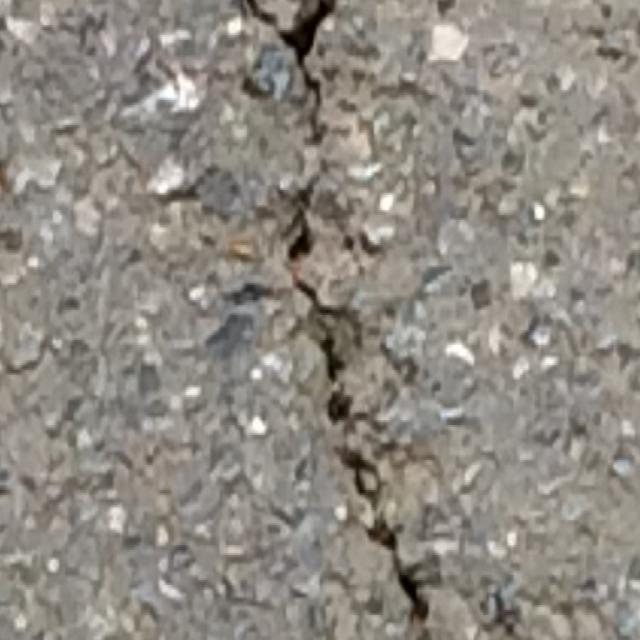Longitudinal: (278, 174, 432, 640)
Radial: (230, 0, 372, 172)
